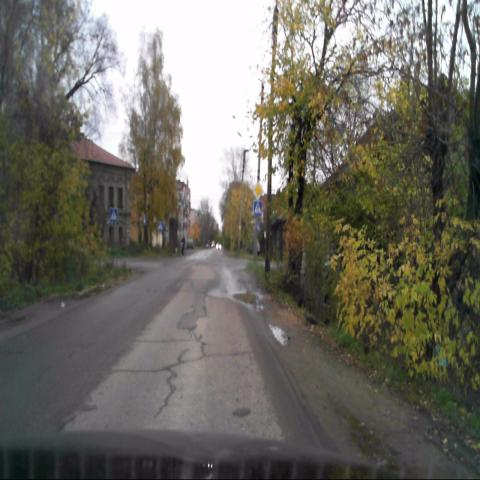2_1: (253, 181, 263, 200)
5_19_1: (253, 201, 261, 215), (110, 208, 118, 222)
